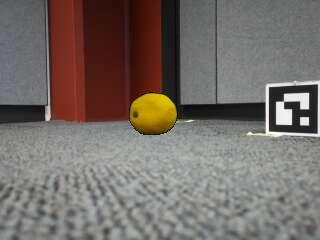lemon: (129, 94, 176, 134)
